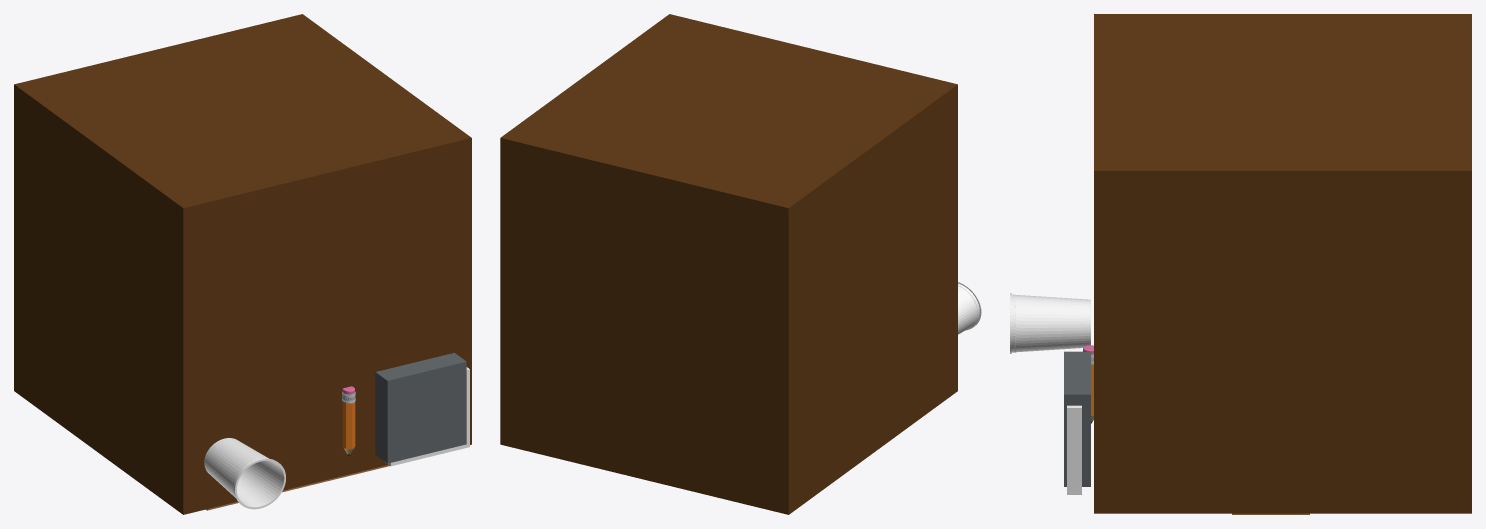
File: tinker.obj
3 renders of one model, left to right at view 1: azimuth 30°, elevation 25°; view 2: azimuth 150°, elevation 25°; view 3: azimuth 270°, elevation 25°, orthographic. The views are drawn at different scales.
Parts seen in each view (by area): view 1: group_0_6306067, group_0_6383466, group_0_16448250, group_0_16089887; view 2: group_0_6306067, group_0_16448250; view 3: group_0_6306067, group_0_16448250, group_0_6383466.
Part boxes in pixels (x1,y1,x2,y2): group_0_6306067: [14, 14, 471, 514]; group_0_6383466: [375, 353, 466, 463]; group_0_16448250: [204, 367, 469, 509]; group_0_16089887: [342, 402, 355, 449]; group_0_6306067: [500, 14, 957, 514]; group_0_16448250: [958, 281, 981, 334]; group_0_6306067: [1094, 14, 1471, 513]; group_0_16448250: [1010, 293, 1090, 494]; group_0_6383466: [1064, 351, 1090, 486].
Bounding box in the file's own units: 62 × 69 × 77.
